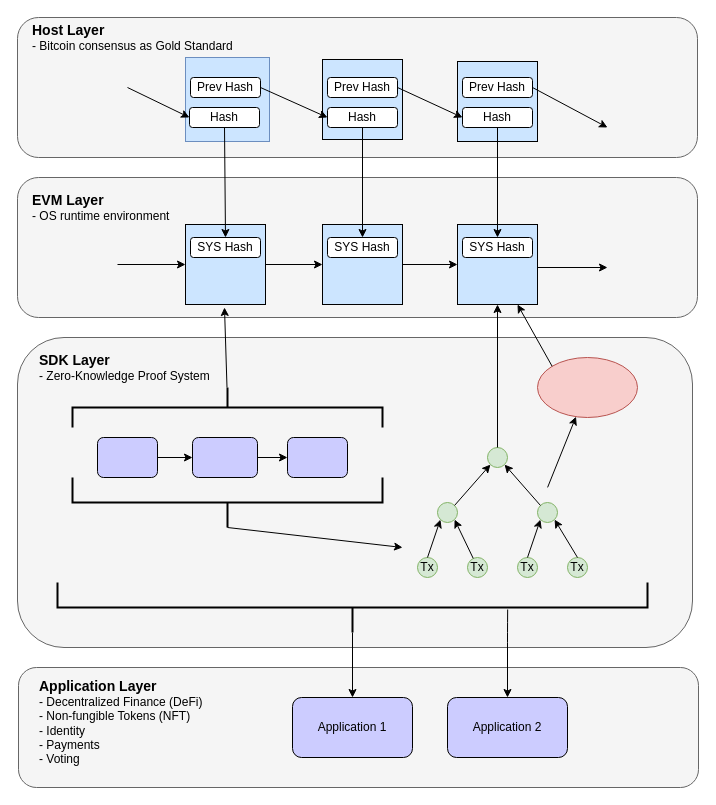
Some shapes in this 716 by 805 pixel diagram are drawn without their labels. The centre of each missing label's shape, as x and y in pixels:
"Prover" belongs at pixel 587 387.
"zk-Rollup" belongs at pixel 227 407.
